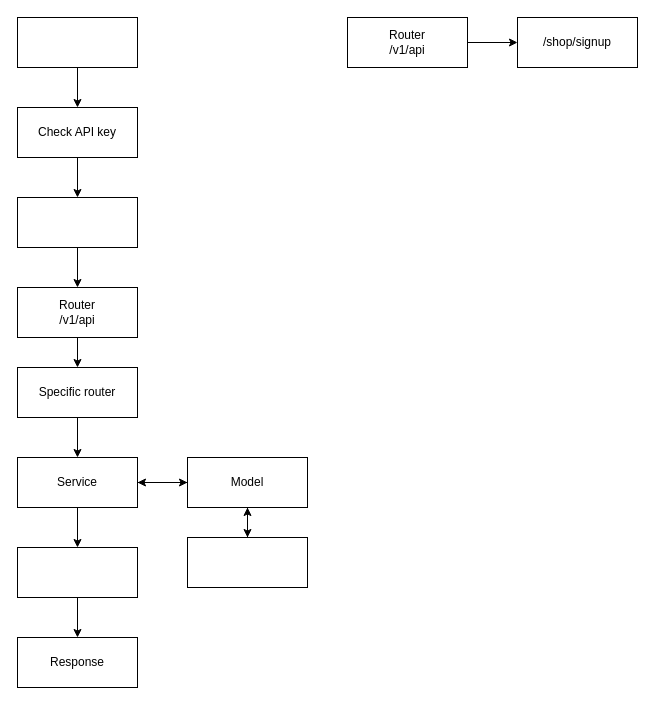
This 655x705 diagram has some shape labels left out. Here are the shapes that lost their labels. From the top down, the centre of each, then its label:
At pixel 77 42: "Request".
At pixel 77 222: "Check Permission".
At pixel 77 572: "Controller".
At pixel 247 562: "Database".
